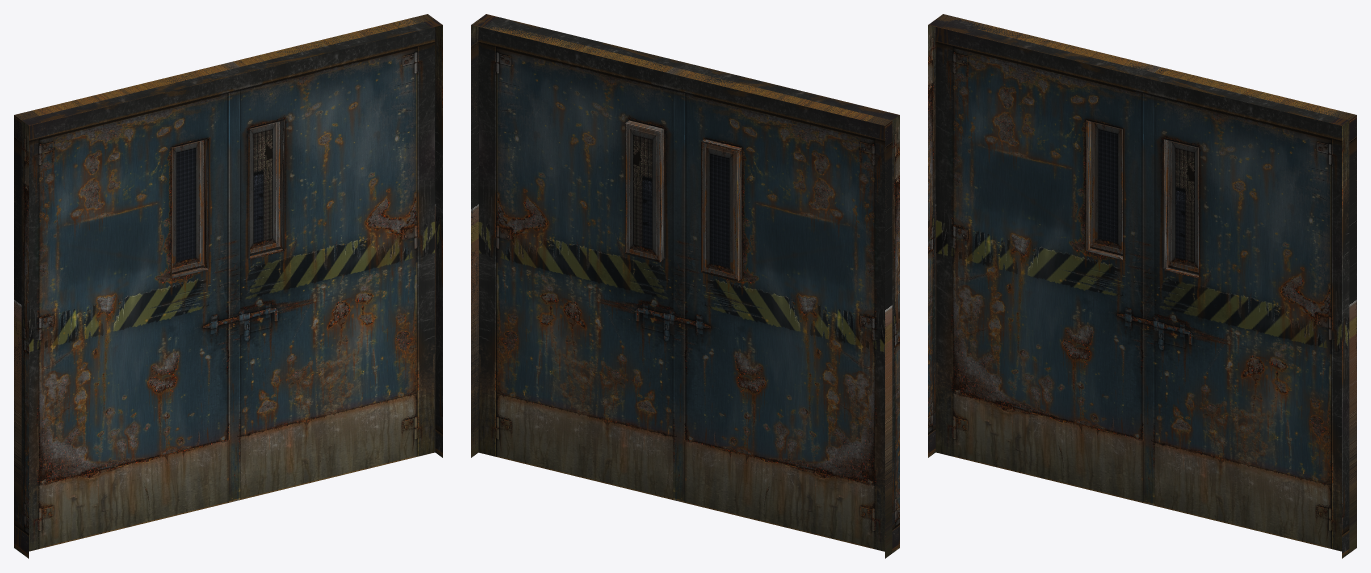
File: Metal doors.fbx
3 renders of one model, left to right at view 1: azimuth 30°, elevation 25°; view 2: azimuth 150°, elevation 25°; view 3: azimuth 330°, elevation 25°, orthographic.
Visible parts, largest first — view 1: Plane; view 2: Plane; view 3: Plane.
Boxes of the visible parts, x1=… form: Plane: x1=14, y1=14, x2=442, y2=558; Plane: x1=471, y1=14, x2=899, y2=558; Plane: x1=928, y1=14, x2=1356, y2=558.
Bounding box in the file's own units: 499 × 499 × 31.42.
1 material, 1 textured.
